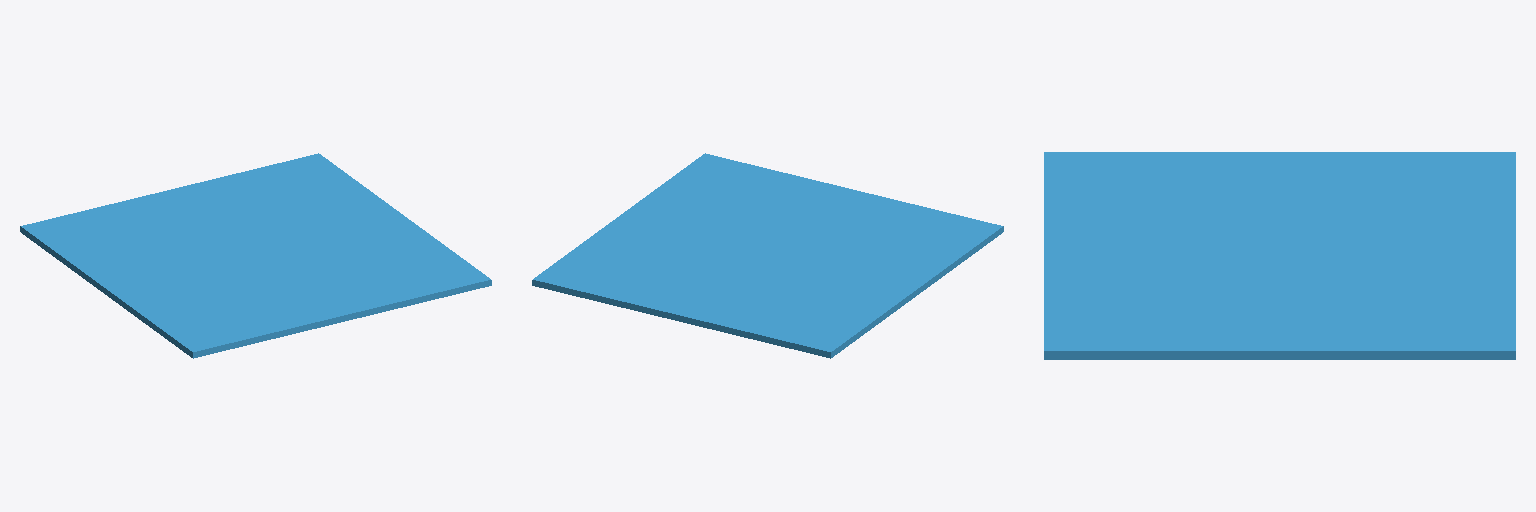
robot.urdf — allegro_hand_right:
<?xml version="1.0" ?>
<!-- =================================================================================== -->
<!-- |    This document was autogenerated by xacro from [local-path]/6/src/allegro_hand_description/urdf/allegro_hand_description_right.xacro | -->
<!-- |    EDITING THIS FILE BY HAND IS NOT RECOMMENDED                                 | -->
<!-- =================================================================================== -->
<robot name="allegro_hand_right" xmlns:xacro="http://ros.org/wiki/xacro">
  <!--
rosrun xacro xacro.py allegro_hand_description_right.urdf.xacro > allegro_hand_description_right.urdf
roslaunch launchers/fuerte/allegro_hand_jgui_right_virtual.launch 
-->
  <!-- ======================== BASE PARAMS ========================= -->
  <!-- ======================== FINGER PARAMS ======================== -->
  <!-- full height from joint to tip. when used,
the radius of the finger tip sphere will be subtracted
and one fixed link will be added for the tip. -->
  <!--0.0435,   0.044981-->
  <!--0.002298-->
  <!--0.002298-->
  <!-- ========================= THUMB PARAMS ========================= -->
  <!-- ========================= LIMITS ========================= -->
  <!-- ============================================================================= -->
  <!-- ============================================================================= -->
  <!-- ============================================================================= -->
  <!-- BASE -->
    <link name="virtuallink" />
    <gazebo reference="virtuallink">
        <material>Gazebo/Gray</material>
    </gazebo>
    <joint name="virtualjoint" type="fixed">
        <origin xyz="0.0 0.0 0.0" rpy="0 0 0" />
        <parent link="virtuallink" />
        <child link="base_link" />
    </joint>
    <link name="base_link">
        <visual>
			    <origin xyz=" 0.0 0.0 0.02"  rpy="0 0 0"/>
			    <geometry>
				      <box size="1 1 0.02" />
			    </geometry>
			    <material name="Black" />
        </visual>
        <collision>
            <origin xyz=" 0.0 0.0 0.02"  rpy="0 0 0"/>
            <geometry>
                <box size="1.0 1.0 0.02" />
            </geometry>
        </collision>
        <box_inertial_matrix m="1000" w="1" h="0.02" d="1"/>
    </link>
    <joint name="base_stand_joint" type="fixed">
        <origin xyz="0.0 0.0 0.15" rpy="0 0 0" />        
        <parent link="base_link"/>
        <child link="palm_link" />
    </joint>
  <link name="palm_link">
    <visual>
      <geometry>
        <mesh filename="package://allegro_hand_description/meshes/base_link.STL"/>
      </geometry>
      <!-- LEFT -->
      <!-- <origin rpy="${-90*DEG2RAD} 0 0" xyz="0.0 0.0 0 "/> -->
      <!-- RIGHT -->
      <origin rpy="0 0 0" xyz="0.0 0.0 0.0 "/>
      <material name="black">
        <color rgba="0.2 0.2 0.2 1"/>
      </material>
    </visual>
    <collision>
      <origin rpy="0 0 0" xyz="-0.009300 0.0 -0.0475"/>
      <geometry>
        <box size="0.0408 0.1130 0.095"/>
      </geometry>
    </collision>
    <inertial>
      <origin rpy="0 0 0" xyz="0.0 0.0 0.0475"/>
      <mass value="0.4154"/>
      <inertia ixx="1e-4" ixy="1e-4" ixz="1e-4" iyy="1e-4" iyz="1e-4" izz="1e-4"/>
    </inertial>
  </link>
  <!-- ============================================================================= -->
  <!-- FINGERS -->
  <!-- RIGHT HAND due to which finger is number 0 -->
  <!-- for LEFT HAND switch the sign of the **offset_origin_y** and **finger_angle_r** parameters-->
  <!-- [LINK 0, 4, 8] -->
  <link name="link_0.0">
    <visual>
      <geometry>
        <mesh filename="package://allegro_hand_description/meshes/link_0.0.STL"/>
      </geometry>
      <material name="black"/>
    </visual>
    <collision>
      <geometry>
        <box size="0.0196 0.0275 0.0164"/>
      </geometry>
      <origin rpy="0 0 0" xyz="0.0 0.0 0.0082"/>
    </collision>
    <inertial>
      <mass value="0.0119"/>
      <origin rpy="0 0 0" xyz="0.0 0.0 0.0"/>
      <inertia ixx="1.01666658333e-06" ixy="1e-4" ixz="1e-4" iyy="6.47677333333e-07" iyz="1e-4" izz="1.01666658333e-06"/>
    </inertial>
  </link>
  <joint name="joint_0" type="revolute">
    <axis xyz="0.0 0.0 1"/>
    <limit effort="15" lower="-0.47" upper="0.47" velocity="7"/>
    <parent link="palm_link"/>
    <child link="link_0.0"/>
    <origin rpy="-0.08726646255 0 0" xyz="0.0 0.0435 -0.001542"/>
    <dynamics friction="10"/>
  </joint>
  <transmission name="tran_0">
    <type>transmission_interface/SimpleTransmission</type>
    <joint name="joint_0">
      <hardwareInterface>EffortJointInterface</hardwareInterface>
    </joint>
    <actuator name="motor_0">
      <hardwareInterface>EffortJointInterface</hardwareInterface>
      <mechanicalReduction>1</mechanicalReduction>
    </actuator>
  </transmission>
  <!-- [LINK 1, 5, 9] -->
  <link name="link_1.0">
    <visual>
      <geometry>
        <mesh filename="package://allegro_hand_description/meshes/link_1.0.STL"/>
      </geometry>
      <material name="black"/>
    </visual>
    <collision>
      <geometry>
        <box size="0.0196 0.0275 0.054"/>
      </geometry>
      <origin rpy="0 0 0" xyz="0.0 0.0 0.027"/>
    </collision>
    <inertial>
      <mass value="0.065"/>
      <origin rpy="0 0 0" xyz="0.0 0.0 0.0"/>
      <inertia ixx="7.95654166667e-05" ixy="1.7199e-05" ixz="8.75875e-06" iyy="2.47088833333e-05" iyz="2.413125e-05" izz="7.95654166667e-05"/>
    </inertial>
  </link>
  <joint name="joint_1" type="revolute">
    <limit effort="15" lower="-0.196" upper="1.61" velocity="7"/>
    <axis xyz="0 1 0"/>
    <parent link="link_0.0"/>
    <child link="link_1.0"/>
    <origin xyz="0.0 0.0 0.0164"/>
    <dynamics friction="5"/>
  </joint>
  <transmission name="tran_1">
    <type>transmission_interface/SimpleTransmission</type>
    <joint name="joint_1">
      <hardwareInterface>EffortJointInterface</hardwareInterface>
    </joint>
    <actuator name="motor_1">
      <hardwareInterface>EffortJointInterface</hardwareInterface>
      <mechanicalReduction>1</mechanicalReduction>
    </actuator>
  </transmission>
  <!-- [LINK 2, 6, 10]-->
  <link name="link_2.0">
    <visual>
      <geometry>
        <mesh filename="package://allegro_hand_description/meshes/link_2.0.STL"/>
      </geometry>
      <material name="black"/>
    </visual>
    <collision>
      <geometry>
        <box size="0.0196 0.0275 0.0384"/>
      </geometry>
      <origin rpy="0 0 0" xyz="0.0 0.0 0.0192"/>
    </collision>
    <inertial>
      <mass value="0.0355"/>
      <origin rpy="0 0 0" xyz="0.0 0.0 0.0"/>
      <inertia ixx="2.63979183333e-05" ixy="6.67968e-06" ixz="4.783625e-06" iyy="1.34948516667e-05" iyz="9.372e-06" izz="2.63979183333e-05"/>
    </inertial>
  </link>
  <joint name="joint_2" type="revolute">
    <axis xyz="0 1 0"/>
    <limit effort="15" lower="-0.174" upper="1.709" velocity="7"/>
    <parent link="link_1.0"/>
    <child link="link_2.0"/>
    <origin xyz="0.0 0.0 0.054"/>
    <dynamics friction="10"/>
  </joint>
  <transmission name="tran_2">
    <type>transmission_interface/SimpleTransmission</type>
    <joint name="joint_2">
      <hardwareInterface>EffortJointInterface</hardwareInterface>
    </joint>
    <actuator name="motor_2">
      <hardwareInterface>EffortJointInterface</hardwareInterface>
      <mechanicalReduction>1</mechanicalReduction>
    </actuator>
  </transmission>
  <!-- [LINK 3, 7, 11] -->
  <link name="link_3.0">
    <visual>
      <geometry>
        <mesh filename="package://allegro_hand_description/meshes/link_3.0.STL"/>
      </geometry>
      <material name="black"/>
    </visual>
    <collision>
      <geometry>
        <box size="0.0196 0.0275 0.0267"/>
      </geometry>
      <origin rpy="0 0 0" xyz="0.0 0.0 0.01335"/>
    </collision>
    <inertial>
      <mass value="0.0096"/>
      <origin rpy="0 0 0" xyz="0.0 0.0 0.0"/>
      <inertia ixx="4.701248e-06" ixy="1.255968e-06" ixz="1.2936e-06" iyy="3.649312e-06" iyz="1.7622e-06" izz="4.701248e-06"/>
    </inertial>
  </link>
  <joint name="joint_3" type="revolute">
    <axis xyz="0 1 0"/>
    <limit effort="15" lower="-0.227" upper="1.618" velocity="7"/>
    <parent link="link_2.0"/>
    <child link="link_3.0"/>
    <origin xyz="0.0 0.0 0.0384"/>
    <dynamics friction="12"/>
  </joint>
  <transmission name="tran_3">
    <type>transmission_interface/SimpleTransmission</type>
    <joint name="joint_3">
      <hardwareInterface>EffortJointInterface</hardwareInterface>
    </joint>
    <actuator name="motor_3">
      <hardwareInterface>EffortJointInterface</hardwareInterface>
      <mechanicalReduction>1</mechanicalReduction>
    </actuator>
  </transmission>
  <!-- [FINGER TIP] -->
  <!--link name="link_3.0_tip">
    <visual>
      <geometry>
        <mesh filename="package://allegro_hand_description/meshes/link_3.0_tip.STL"/>
      </geometry>
      <material name="white">
        <color rgba=".9 .9 .9 1"/>
      </material>
    </visual>
    <collision>
      <geometry>
        <sphere radius="0.012"/>
      </geometry>
      <inertial>
        <mass value="0.0168"/>
        <origin rpy="0 0 0" xyz="0.0 0.0 0.0"/>
        <inertia ixx="9.68e-07" ixy="1e-4" ixz="1e-4" iyy="9.68e-07" iyz="1e-4" izz="9.68e-07"/>
      </inertial>
    </collision>
  </link>
  <joint name="joint_3_tip" type="fixed">
    <parent link="link_3.0"/>
    <child link="link_3.0_tip"/>
    <origin rpy="0 0 0" xyz="0.0 0.0 0.0267"/>
  </joint-->
  <!-- [LINK 0, 4, 8] -->

  <!--
<xacro:thumb_left 
	finger_num=			"3" 
	offset_origin_x=	"-0.0182"	
	offset_origin_y=	"-0.019333" 
	offset_origin_z=	"-0.045987" 
	
	
	finger_angle_r=		"${90*DEG2RAD}"
	finger_angle_p=		"-${95*DEG2RAD}"	
	finger_angle_y=		"${90*DEG2RAD}"
/>
-->
  <!-- ============================================================================= -->
  <!-- ============================================================================= -->
  <!-- ============================================================================= -->
  <!-- THUMB MACRO -->
  <!-- END THUMB MACRO -->
  <!-- THREE FINGER MACRO -->
  <!-- [[END]] THREE FINGER MACRO -->

  <gazebo>
    <plugin name="gazebo_ros_control" filename="libgazebo_ros_control.so">
      <robotNamespace>/</robotNamespace>
    </plugin>
  </gazebo>
</robot>

--- Render facts (derived) ---
The picture shows the robot from 3 angles, left to right: view 1: azimuth 30°, elevation 25°; view 2: azimuth 150°, elevation 25°; view 3: azimuth 270°, elevation 25°; orthographic projection.
Robot: allegro_hand_right — 7 links, 6 joints (4 revolute, 2 fixed); root link virtuallink; default pose: all joints at 0.
Visible links, largest first — view 1: base_link; view 2: base_link; view 3: base_link.
Boxes of the visible links, x1=… form: base_link: x1=20, y1=153, x2=491, y2=358; base_link: x1=532, y1=153, x2=1003, y2=358; base_link: x1=1044, y1=152, x2=1515, y2=359.
Bounding box of the posed robot: 1 × 1 × 0.02 m (x, y, z).
Meshes: 5 distinct files referenced, 0 mesh visuals loaded (none loaded); not drawn: 5 (reference not matched to a file when rendering).